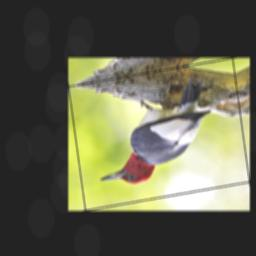Woodpecker: (89, 74, 219, 189)
